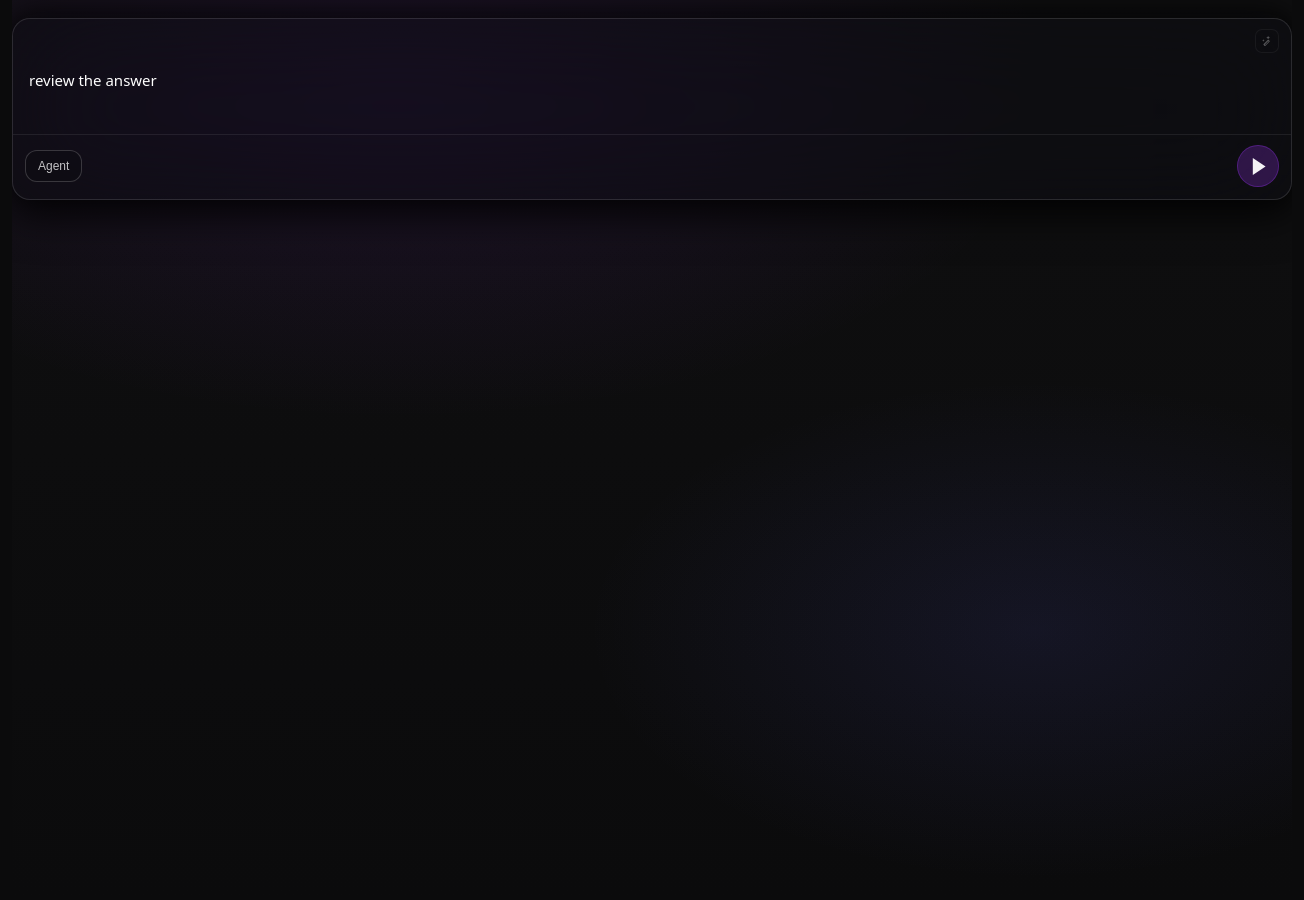
Test case: a first message sent with Tab still goes the other way once Enter's mode is chosen
The image size is (1304, 900).
Press Tab in the text box named "Message", box [13,53,1291,129]
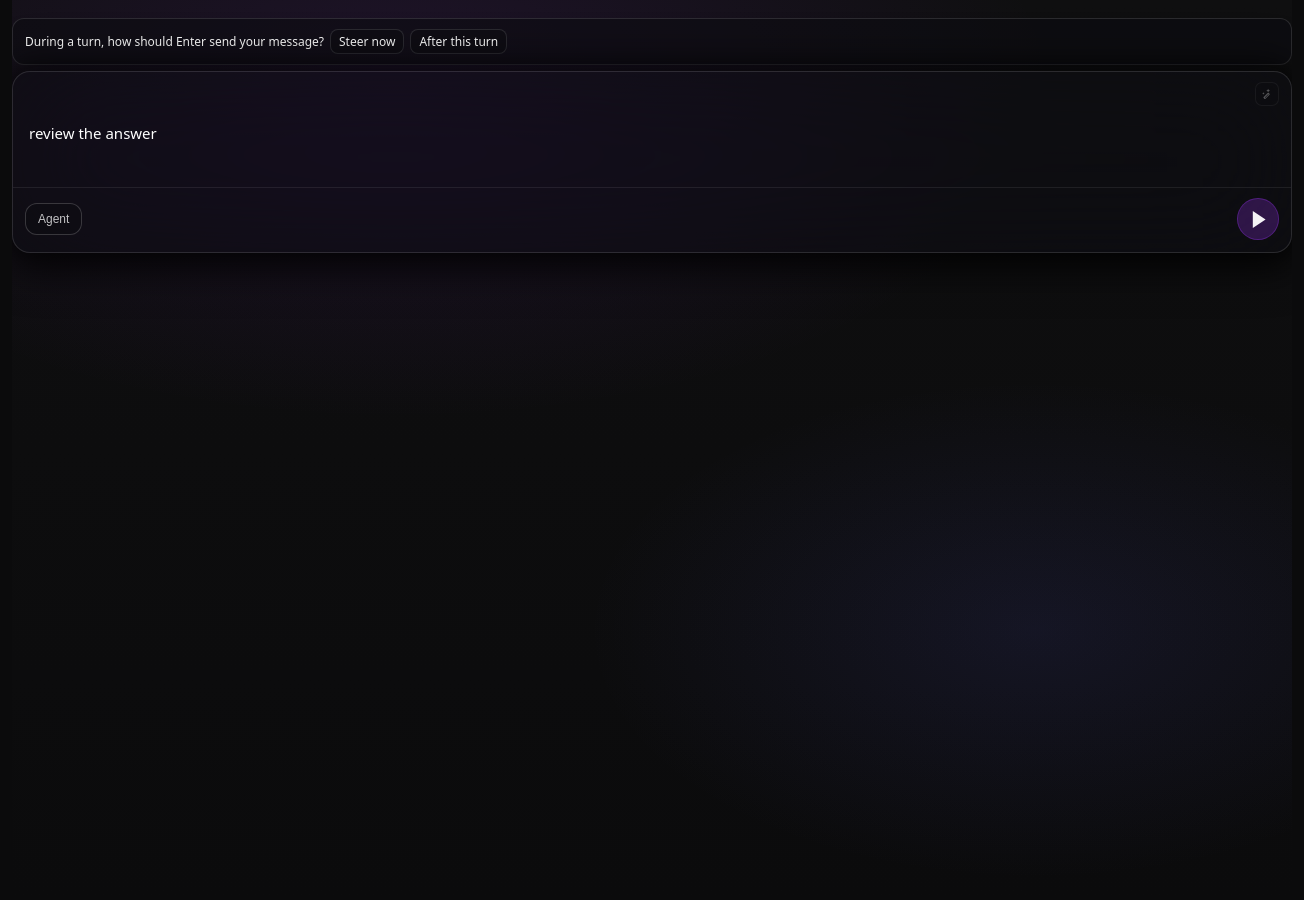
Now the element with test id "composer-queue-choice" is shown, box [12,18,1292,65]
Click the button "Steer now" at [367, 42], box [330,29,404,54]
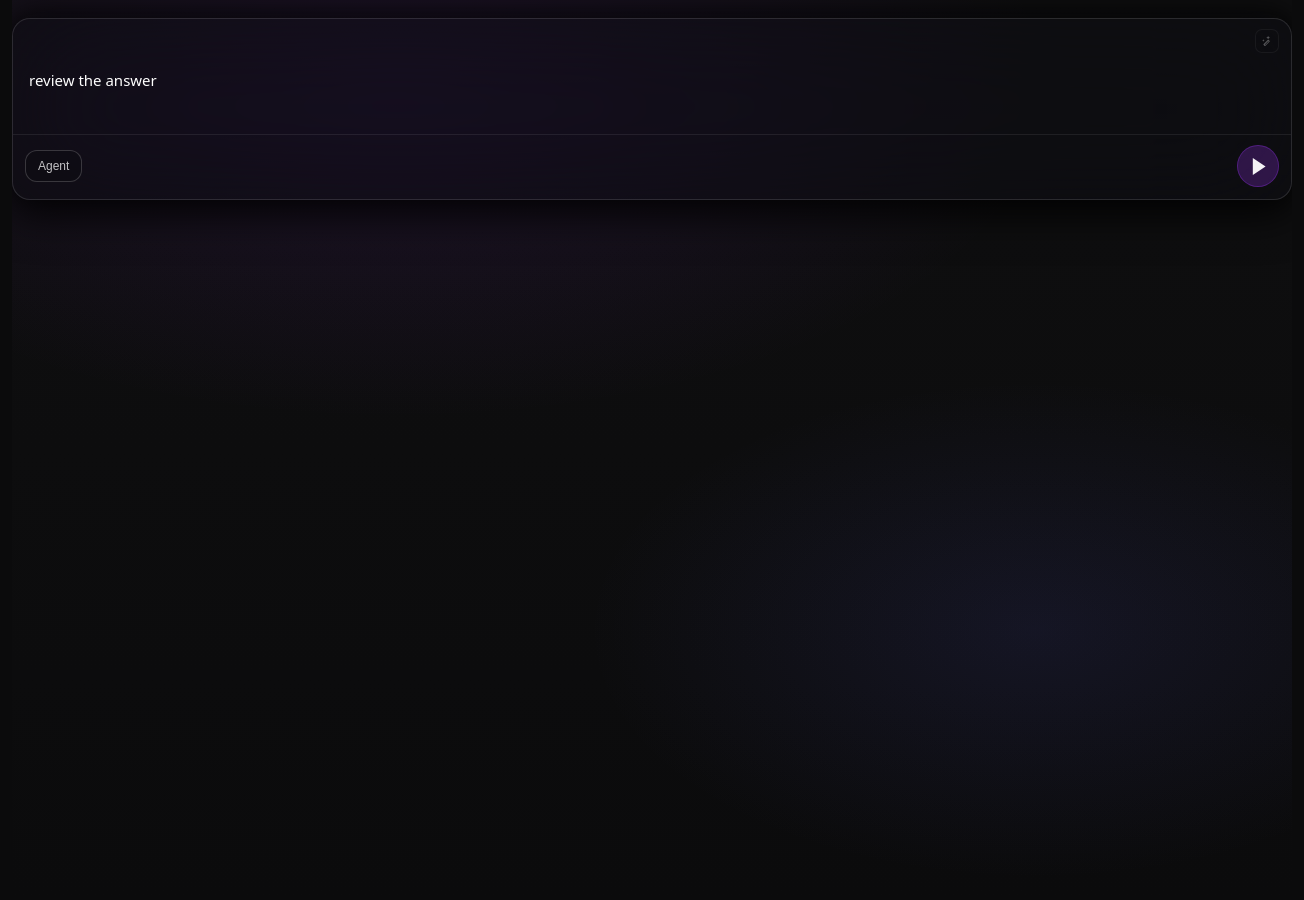
Now the element with test id "composer-queue-choice" is gone
